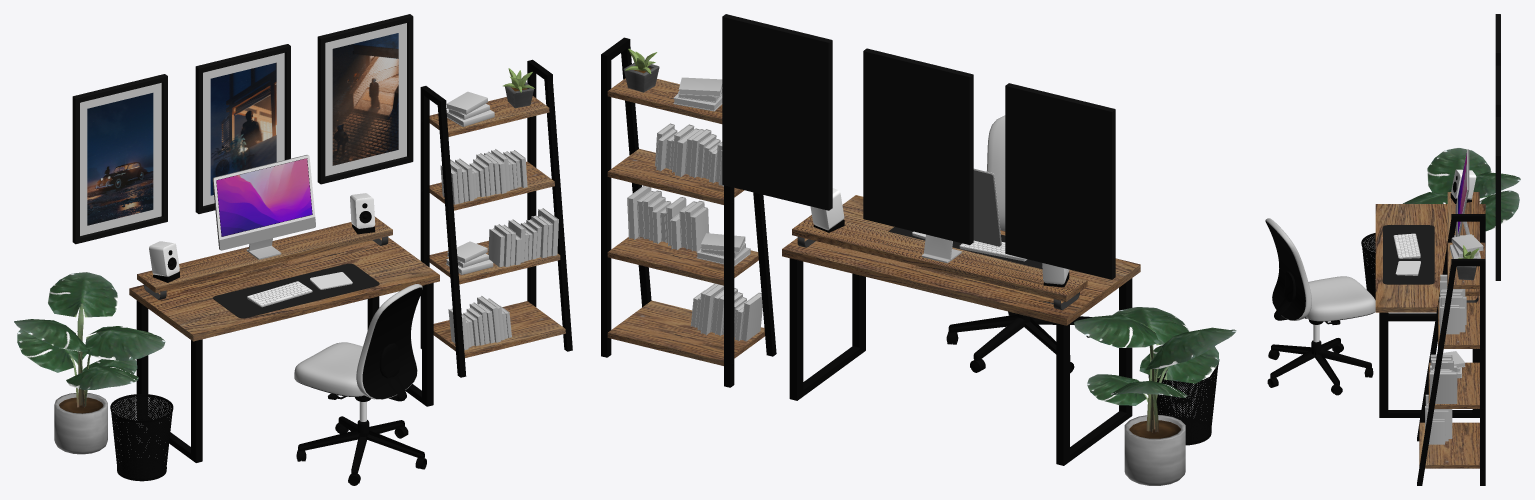
3 renders of one model, left to right at view 1: azimuth 30°, elevation 25°; view 2: azimuth 150°, elevation 25°; view 3: azimuth 270°, elevation 25°, orthographic. The views are drawn at different scales.
Parts seen in each view (by area): view 1: Desk #2, Book Shelf, Poster #3, Poster #1, Large Plant, Poster #2, Computer Chair, iMac Silver, Monitor Riser, Bin, Books, Desk Mat (+5 smaller); view 2: Book Shelf, Poster #2, Poster #3, Poster #1, Desk #2, Large Plant, Monitor Riser, Computer Chair, Books, Bin, iMac Silver, Small Plant (+3 smaller); view 3: Book Shelf, Computer Chair, Desk #2, Large Plant, Desk Mat, Books, Poster #3, Monitor Riser, Book.040, Bin, iMac Silver, Keyboard (+7 smaller).
Part boxes in pixels (x1=…): Desk #2: x1=129, y1=237, x2=439, y2=462; Book Shelf: x1=420, y1=59, x2=572, y2=377; Poster #3: x1=317, y1=14, x2=413, y2=184; Poster #1: x1=72, y1=74, x2=167, y2=244; Large Plant: x1=14, y1=272, x2=165, y2=454; Poster #2: x1=195, y1=44, x2=290, y2=213; Computer Chair: x1=294, y1=284, x2=426, y2=485; iMac Silver: x1=212, y1=155, x2=315, y2=259; Monitor Riser: x1=137, y1=216, x2=392, y2=299; Bin: x1=110, y1=394, x2=173, y2=481; Books: x1=440, y1=149, x2=527, y2=204; Desk Mat: x1=213, y1=263, x2=379, y2=318; Book Shelf: x1=601, y1=37, x2=776, y2=387; Poster #2: x1=863, y1=48, x2=973, y2=244; Poster #3: x1=722, y1=14, x2=832, y2=210; Poster #1: x1=1005, y1=83, x2=1115, y2=279; Desk #2: x1=782, y1=195, x2=1140, y2=465; Large Plant: x1=1074, y1=307, x2=1236, y2=485; Monitor Riser: x1=792, y1=215, x2=1087, y2=310; Computer Chair: x1=946, y1=115, x2=1092, y2=373; Books: x1=655, y1=123, x2=723, y2=186; Bin: x1=1148, y1=359, x2=1219, y2=445; iMac Silver: x1=921, y1=168, x2=1001, y2=263; Small Plant: x1=623, y1=48, x2=659, y2=92; Book Shelf: x1=1417, y1=214, x2=1485, y2=485; Computer Chair: x1=1265, y1=218, x2=1375, y2=395; Desk #2: x1=1375, y1=204, x2=1485, y2=417; Large Plant: x1=1403, y1=147, x2=1520, y2=231; Desk Mat: x1=1383, y1=225, x2=1434, y2=284; Books: x1=1439, y1=274, x2=1466, y2=334; Poster #3: x1=1495, y1=117, x2=1500, y2=280; Monitor Riser: x1=1447, y1=192, x2=1479, y2=302; Book.040: x1=1429, y1=372, x2=1457, y2=403; Bin: x1=1361, y1=233, x2=1375, y2=299; iMac Silver: x1=1454, y1=149, x2=1473, y2=237; Keyboard: x1=1393, y1=233, x2=1420, y2=258.
Size of the model in its own units: 2.99 by 1.77 by 1.45.
